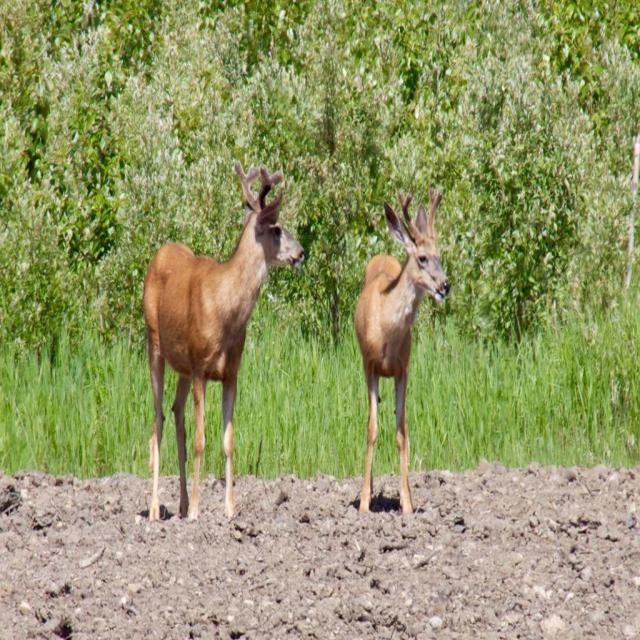Deer: (144, 165, 307, 522), (354, 188, 450, 509)
